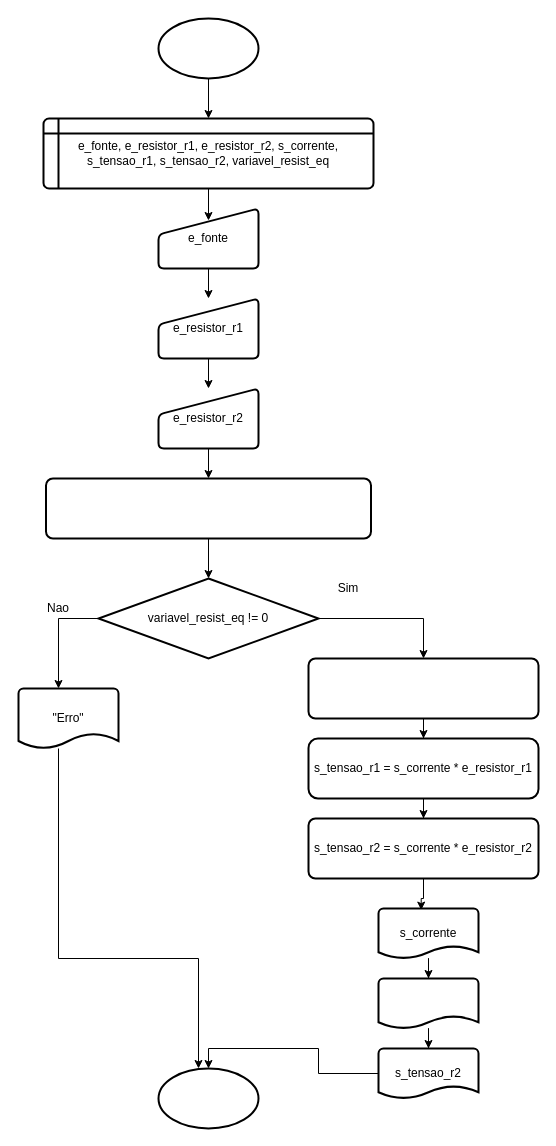
This 556x1146 diagram has some shape labels left out. The box of each missing label's shape, as (x1, y1, x2, y2) in pixels:
End: (157, 1067, 259, 1129)
s_corrente = e_fonte / variavel_resist_eq: (307, 657, 539, 719)
s_tensao_r1: (377, 977, 479, 1029)
Start: (157, 17, 259, 79)
variavel_resist_eq = e_resistor_r1 + e_resistor_r2: (44, 477, 372, 539)
